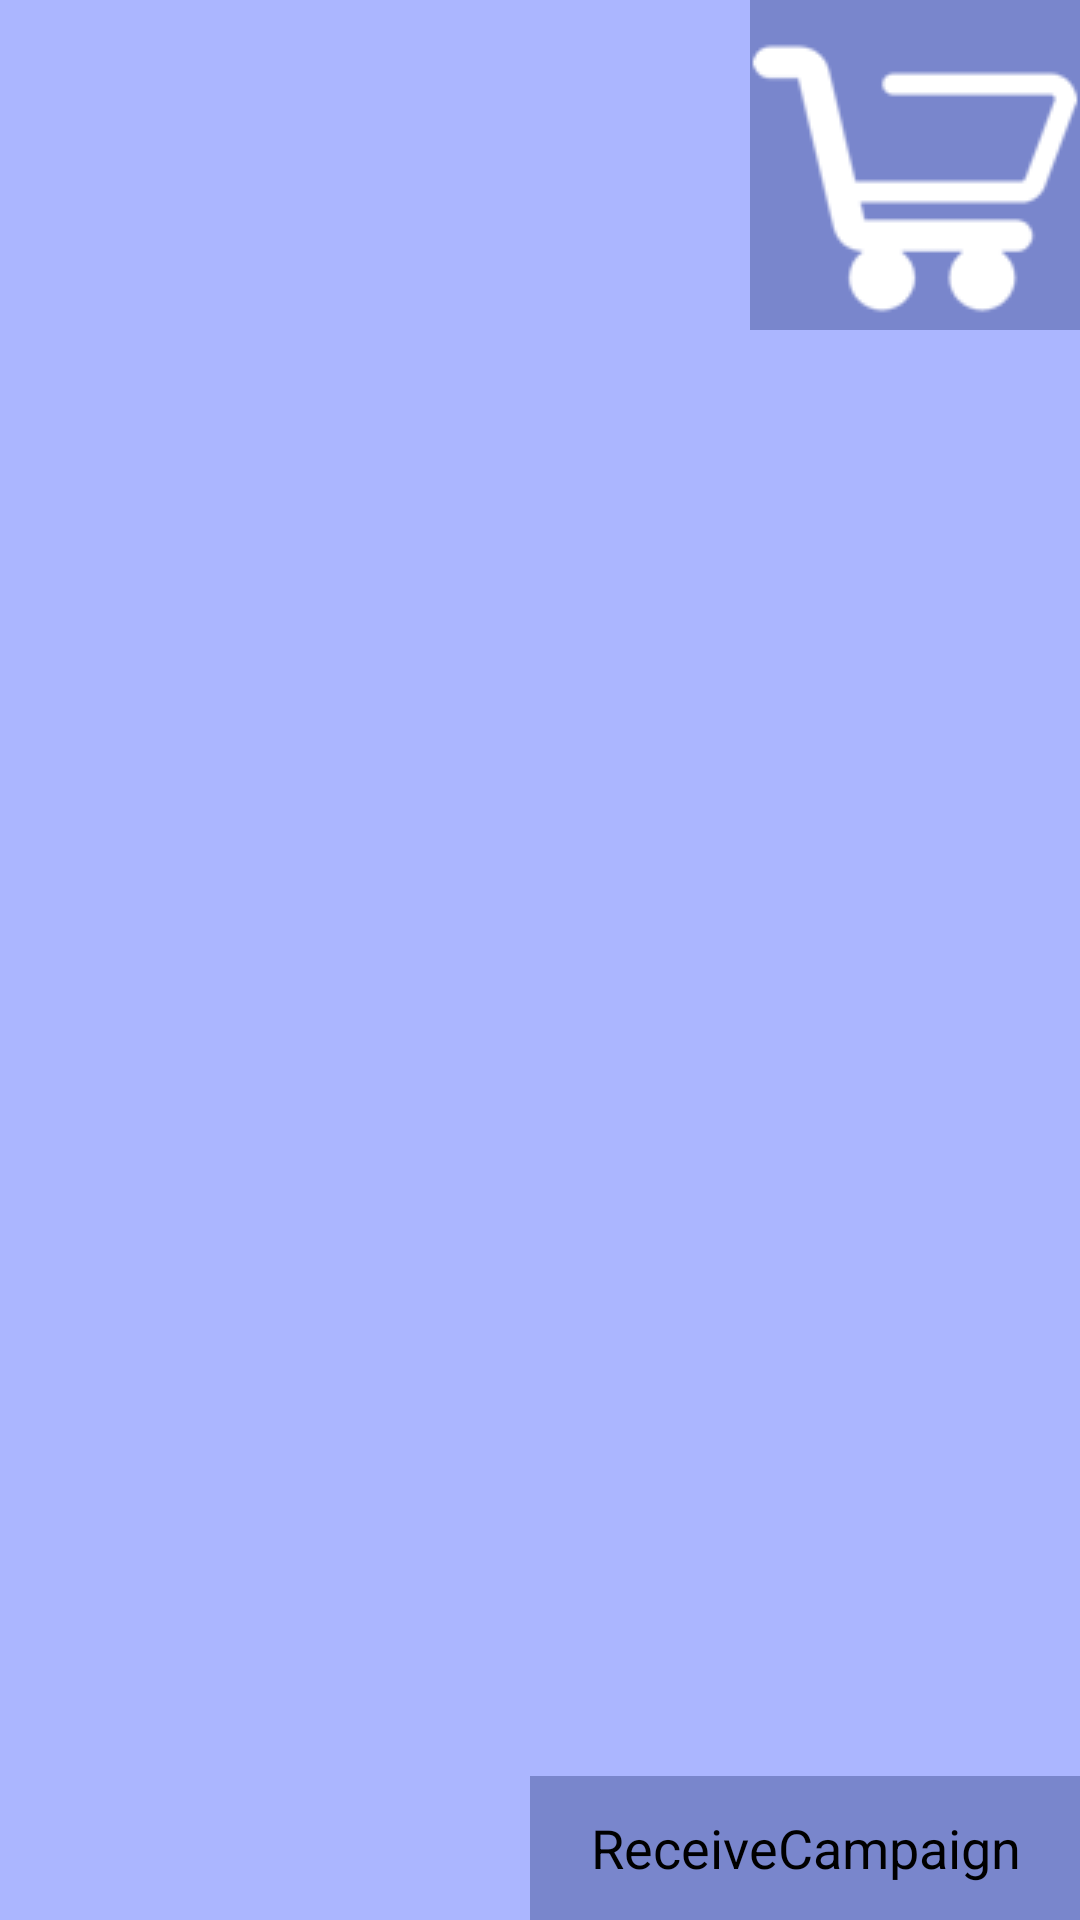

Screen size 1080 × 1920. Icon name, then its center in pixels as (x,y):
cart icon: (915,165)
